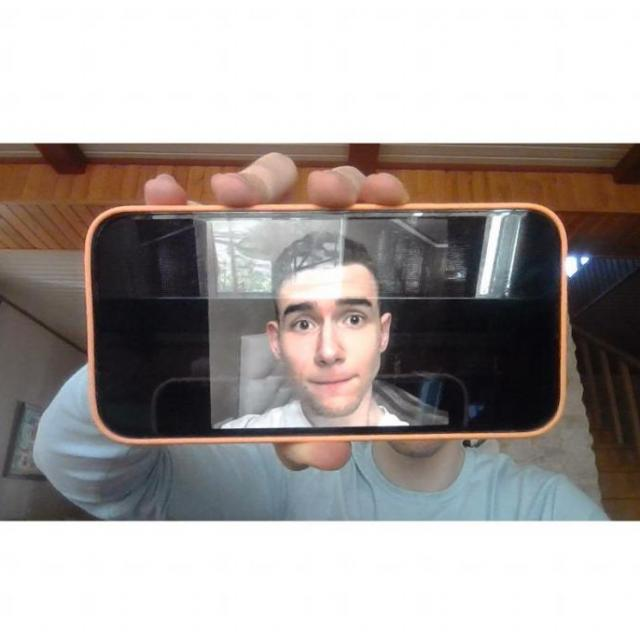device: (89, 209, 559, 446)
